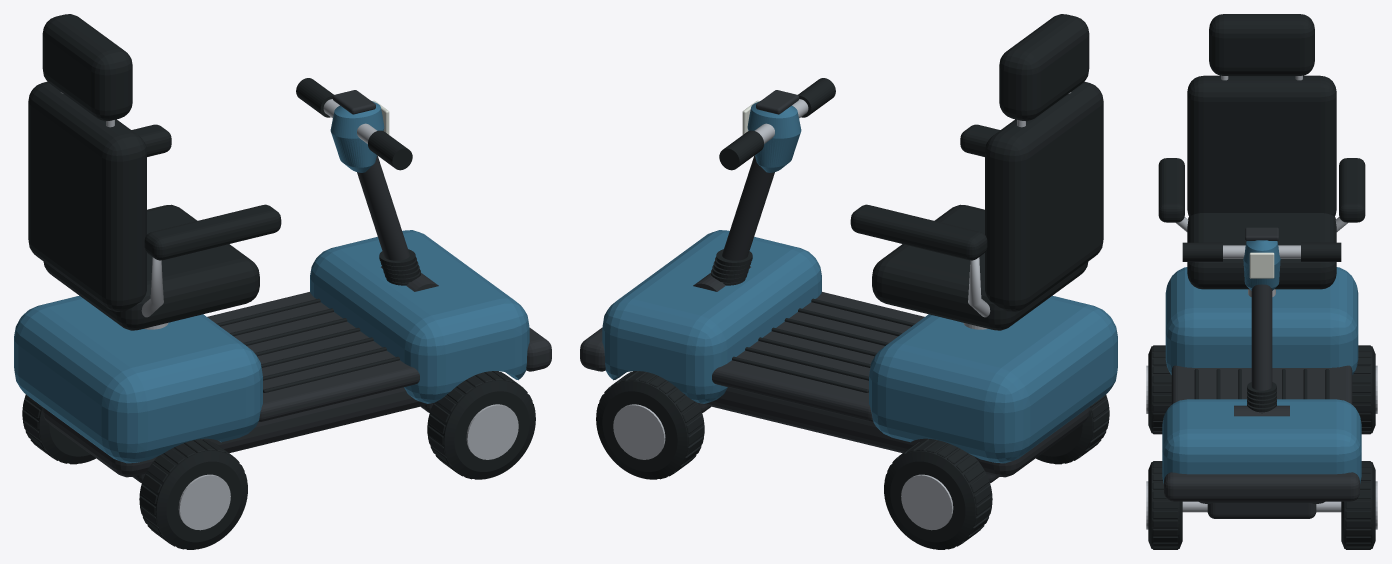
The model's file is A-NEW-20261026-FOUR-WHEEL-MOBILITY-SCOOTER-001_LOD0_R4.glb.
3 renders of one model, left to right at view 1: azimuth 30°, elevation 25°; view 2: azimuth 150°, elevation 25°; view 3: azimuth 270°, elevation 25°, orthographic. The views are drawn at different scales.
Visible parts, largest first — view 1: rear power housing, tall padded back, front fairing, textured low floorboard, padded seat, separate padded headrest, step through chassis, four wheel tire, four wheel tire.002, black armrest, tiller column, outer wheel hub.002 (+10 smaller); view 2: rear power housing, tall padded back, front fairing, textured low floorboard, padded seat, separate padded headrest, step through chassis, four wheel tire.001, four wheel tire.003, black armrest.001, tiller column, outer wheel hub.003 (+10 smaller); view 3: tall padded back, rear power housing, front fairing, padded seat, separate padded headrest, front dark bumper, textured low floorboard, tiller column, axle chassis support.001, black armrest, black armrest.001, teardrop tiller housing (+11 smaller).
Boxes of the visible parts, box(x1,y1,x2,y2) form: rear power housing: box(14, 295, 262, 463); tall padded back: box(28, 81, 146, 311); front fairing: box(310, 230, 529, 403); textured low floorboard: box(207, 292, 419, 421); padded seat: box(43, 204, 259, 330); separate padded headrest: box(42, 14, 132, 121); step through chassis: box(41, 387, 433, 477); four wheel tire: box(139, 439, 247, 549); four wheel tire.002: box(427, 372, 535, 479); black armrest: box(144, 204, 281, 260); tiller column: box(357, 155, 409, 260); outer wheel hub.002: box(466, 404, 518, 459); rear power housing: box(869, 295, 1117, 463); tall padded back: box(985, 81, 1103, 311); front fairing: box(602, 230, 821, 403); textured low floorboard: box(712, 292, 924, 421); padded seat: box(872, 204, 1088, 330); separate padded headrest: box(999, 14, 1089, 121); step through chassis: box(698, 387, 1090, 477); four wheel tire.001: box(884, 439, 992, 549); four wheel tire.003: box(596, 372, 704, 479); black armrest.001: box(850, 204, 987, 260); tiller column: box(722, 155, 774, 260); outer wheel hub.003: box(613, 404, 665, 459); tall padded back: box(1187, 75, 1336, 216); rear power housing: box(1165, 267, 1358, 374); front fairing: box(1162, 399, 1361, 483); padded seat: box(1187, 213, 1336, 289); separate padded headrest: box(1209, 14, 1314, 75); front dark bumper: box(1164, 472, 1359, 501); textured low floorboard: box(1171, 365, 1352, 404); tiller column: box(1251, 284, 1272, 390); axle chassis support.001: box(1207, 503, 1316, 518); black armrest: box(1158, 158, 1184, 222); black armrest.001: box(1339, 158, 1365, 222); teardrop tiller housing: box(1243, 240, 1280, 290).
Size of the model in its own units: 1.34 by 1.4 by 0.743.
